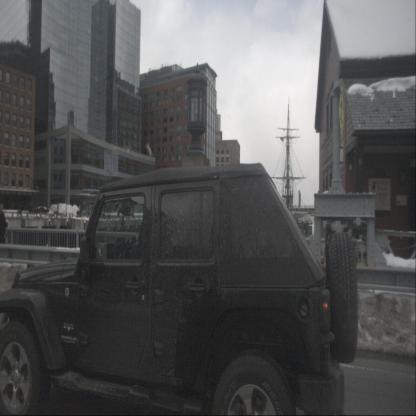human-pedestrian-adult: (0, 202, 8, 263)
vehicle-car: (0, 162, 360, 416)
